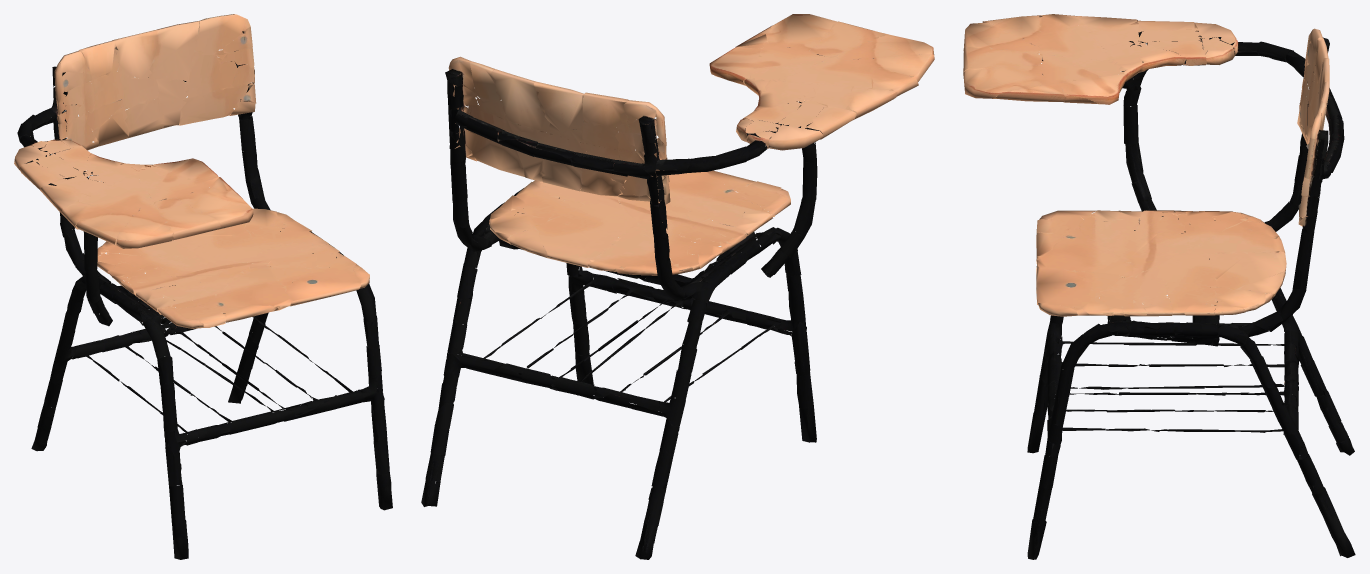
Rendered from cadeira-aula-jogo.obj.
3 renders of one model, left to right at view 1: azimuth 30°, elevation 25°; view 2: azimuth 150°, elevation 25°; view 3: azimuth 270°, elevation 25°, orthographic. The views are drawn at different scales.
Visible parts, largest first — view 1: CadeiraAula; view 2: CadeiraAula; view 3: CadeiraAula.
Part boxes in pixels (x1=…): CadeiraAula: x1=14, y1=14, x2=392, y2=559; CadeiraAula: x1=421, y1=14, x2=934, y2=559; CadeiraAula: x1=963, y1=14, x2=1355, y2=559.
Size of the model in its own units: 0.7077 by 0.8623 by 0.7132.
1 material, 1 textured.
